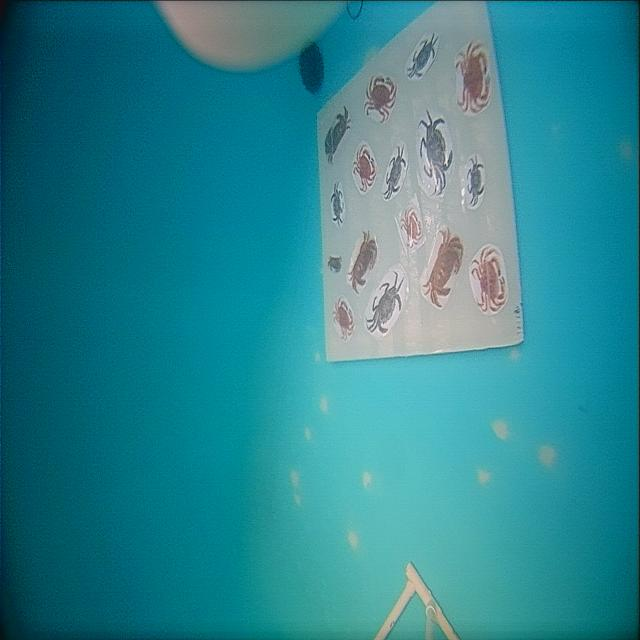GreenCrab: (419, 110, 452, 194), (365, 271, 401, 334), (383, 146, 406, 199), (467, 157, 484, 206), (331, 183, 343, 228)
